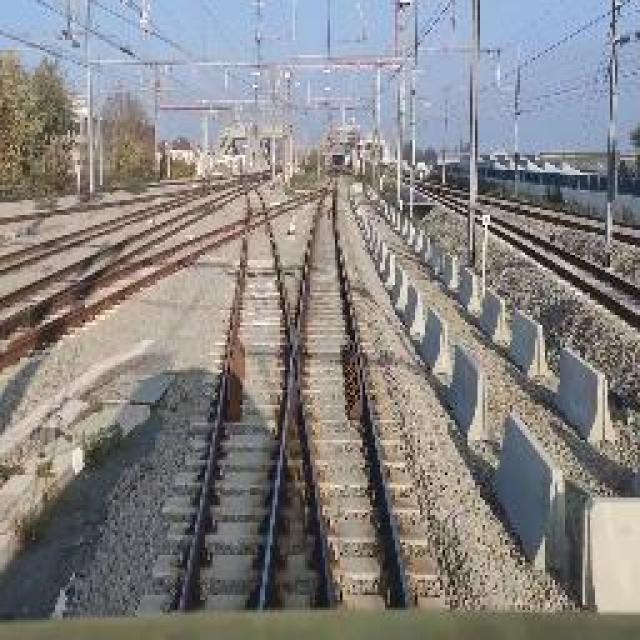rail: (108, 172, 459, 612)
